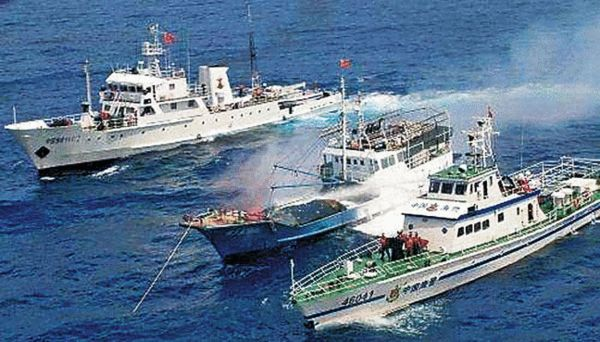otherboat: (267, 107, 600, 326), (4, 17, 340, 178), (178, 95, 455, 267)
